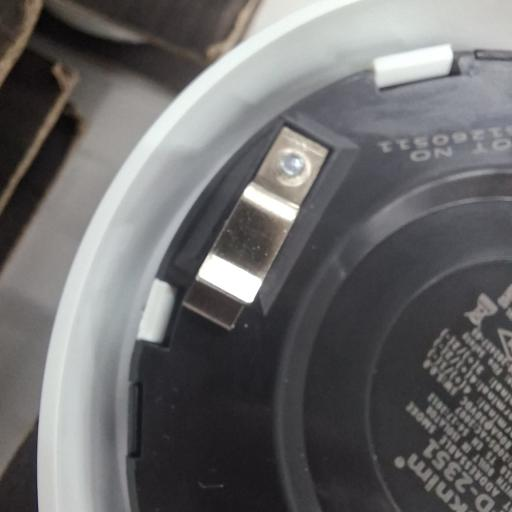yayli: (181, 123, 330, 332)
